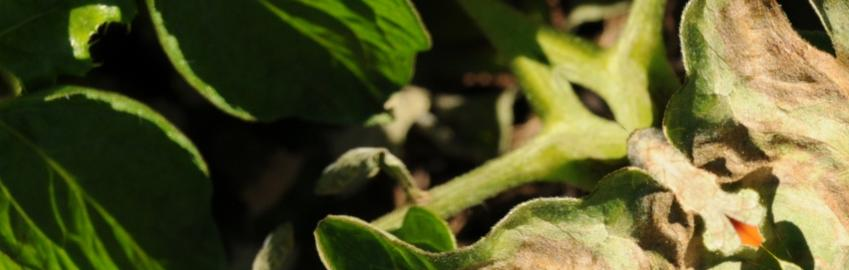Tomato leaf late blight: (304, 4, 835, 270)
